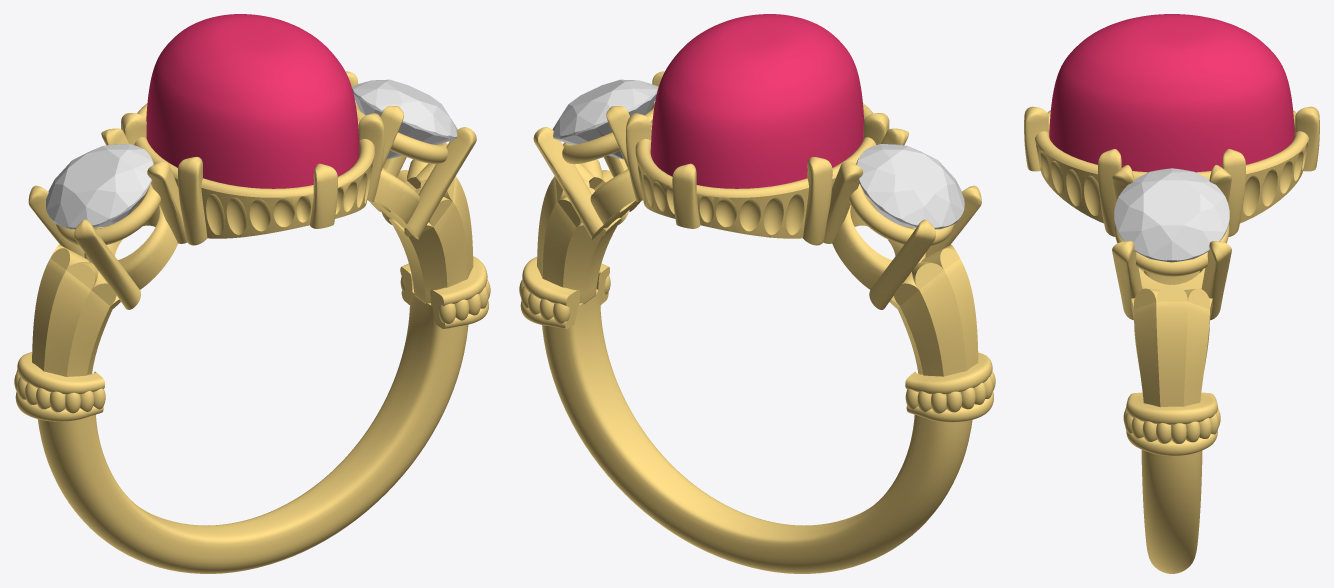
File: NickYGantique_blender.glb
3 views of the same model, side by side, from view 1: azimuth 30°, elevation 25°; view 2: azimuth 150°, elevation 25°; view 3: azimuth 270°, elevation 25° (orthographic). The views are drawn at different scales.
Parts seen in each view (by area): view 1: Nicholas YG for 3d model, Nicholas ruby for 3d model, Nicholas dia for 3d model.001, Nicholas dia for 3d model; view 2: Nicholas YG for 3d model, Nicholas ruby for 3d model, Nicholas dia for 3d model.001, Nicholas dia for 3d model; view 3: Nicholas YG for 3d model, Nicholas ruby for 3d model, Nicholas dia for 3d model.
Boxes of the visible parts, box(x1,y1,x2,y2) form: Nicholas YG for 3d model: box(14, 71, 490, 573); Nicholas ruby for 3d model: box(146, 14, 359, 188); Nicholas dia for 3d model.001: box(46, 144, 153, 229); Nicholas dia for 3d model: box(352, 79, 457, 159); Nicholas YG for 3d model: box(519, 71, 995, 573); Nicholas ruby for 3d model: box(650, 14, 863, 188); Nicholas dia for 3d model.001: box(856, 144, 964, 229); Nicholas dia for 3d model: box(552, 79, 658, 159); Nicholas YG for 3d model: box(1024, 106, 1319, 573); Nicholas ruby for 3d model: box(1049, 14, 1294, 172); Nicholas dia for 3d model: box(1114, 168, 1229, 262).
Size of the model in its own units: 21.25 by 23.39 by 12.03.
